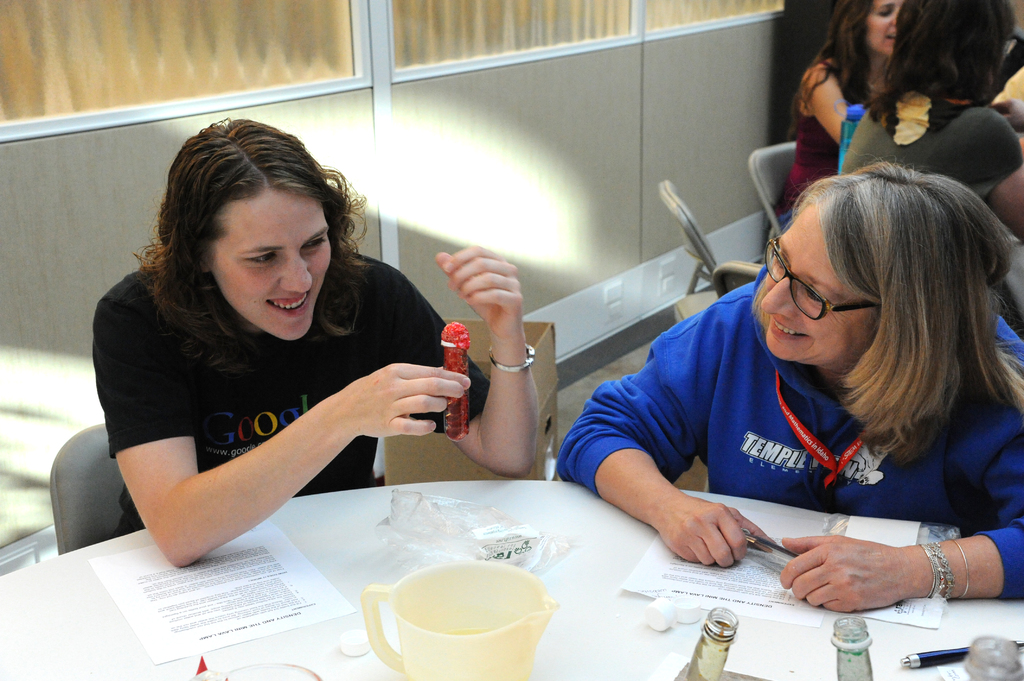Person: (92, 0, 1023, 611), (558, 158, 1024, 612)
